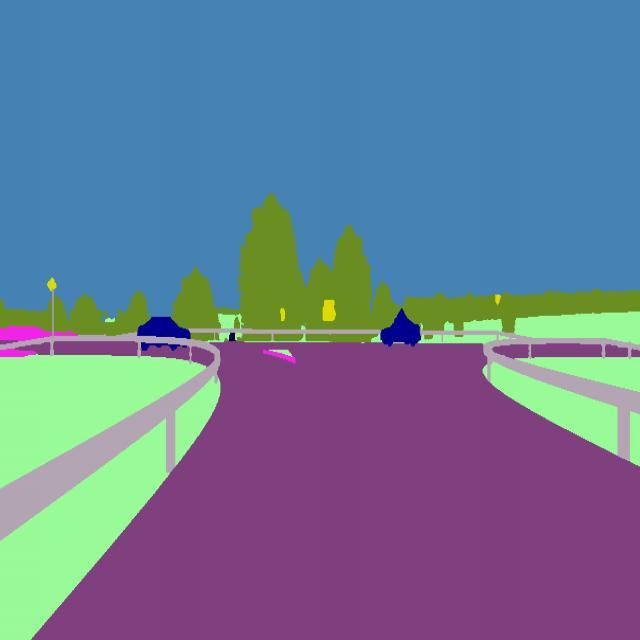safe: (133, 310, 197, 353), (378, 302, 423, 352)
